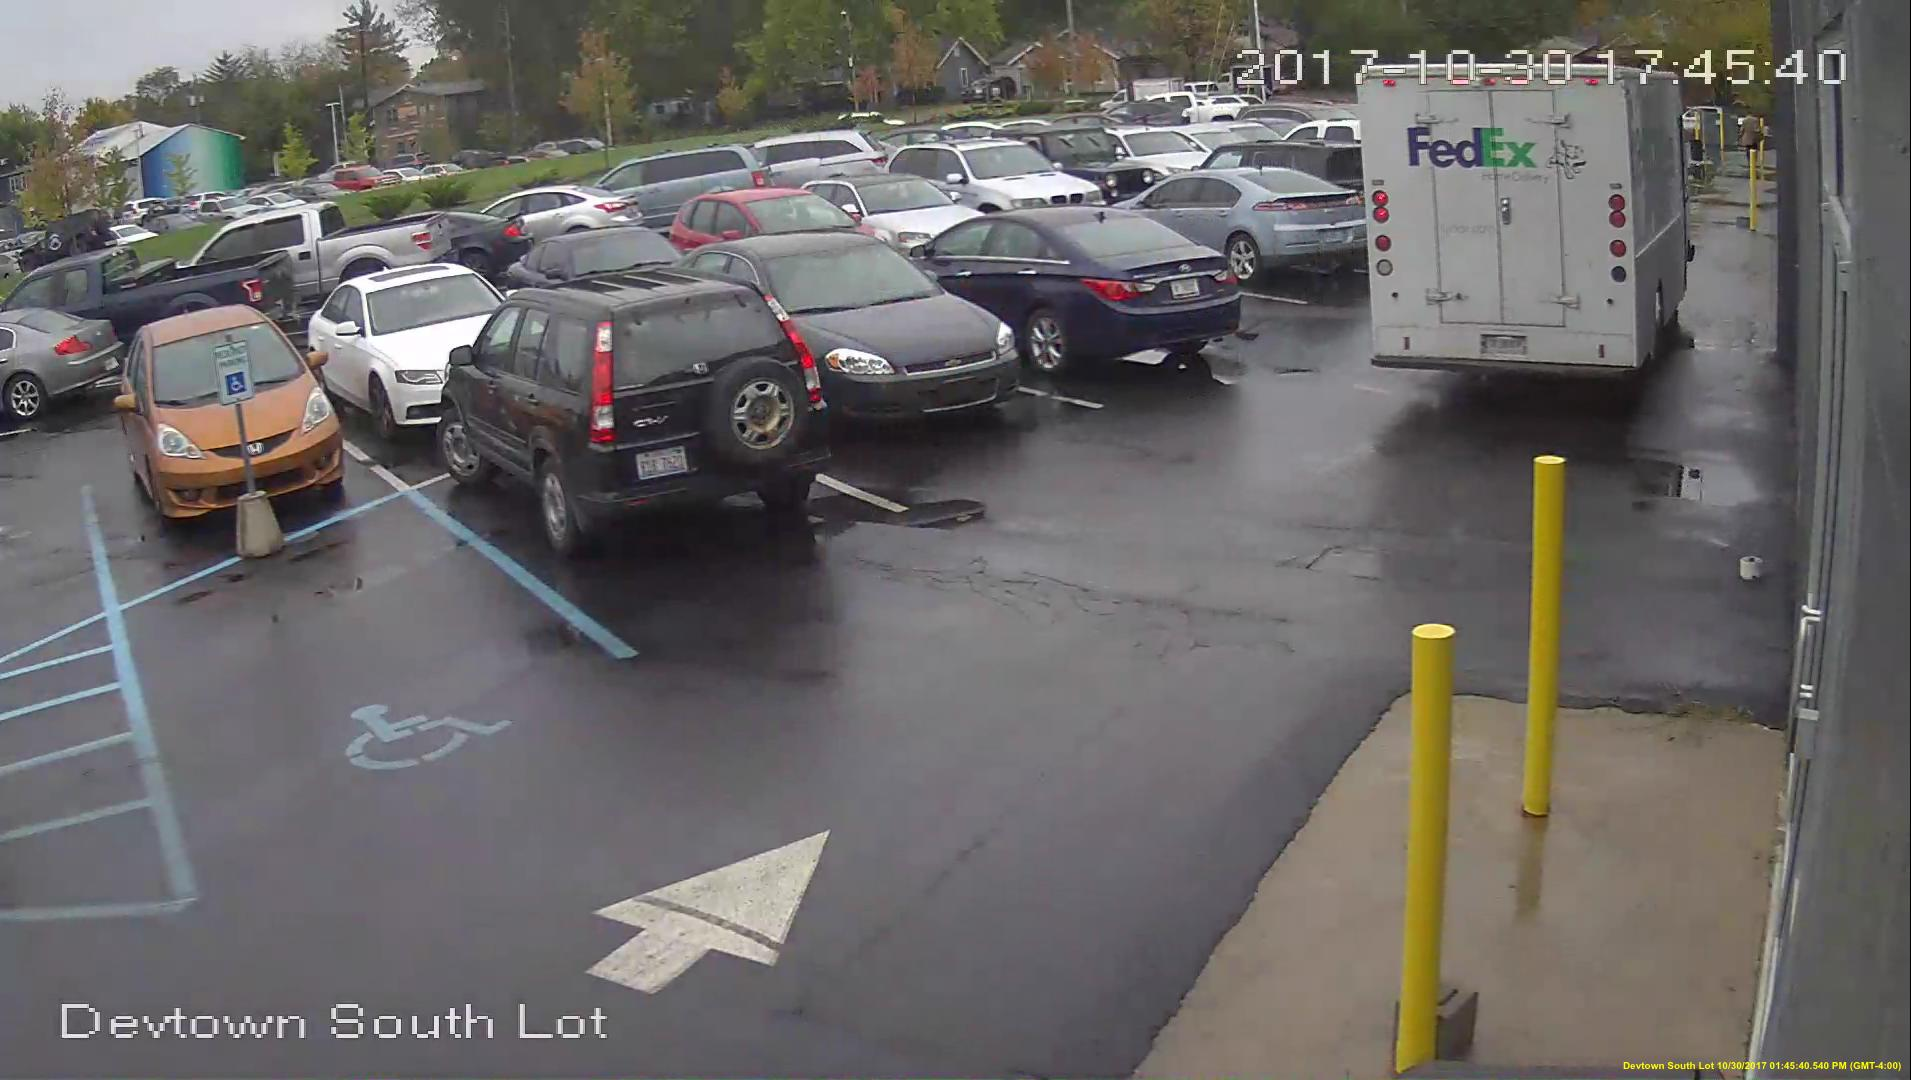fedex_truck: (1362, 66, 1685, 381)
